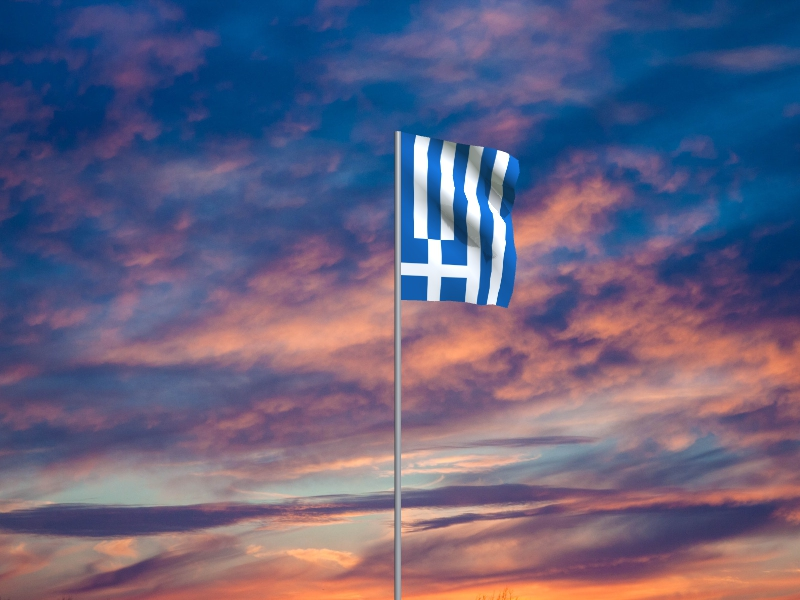gr: (402, 133, 521, 310)
